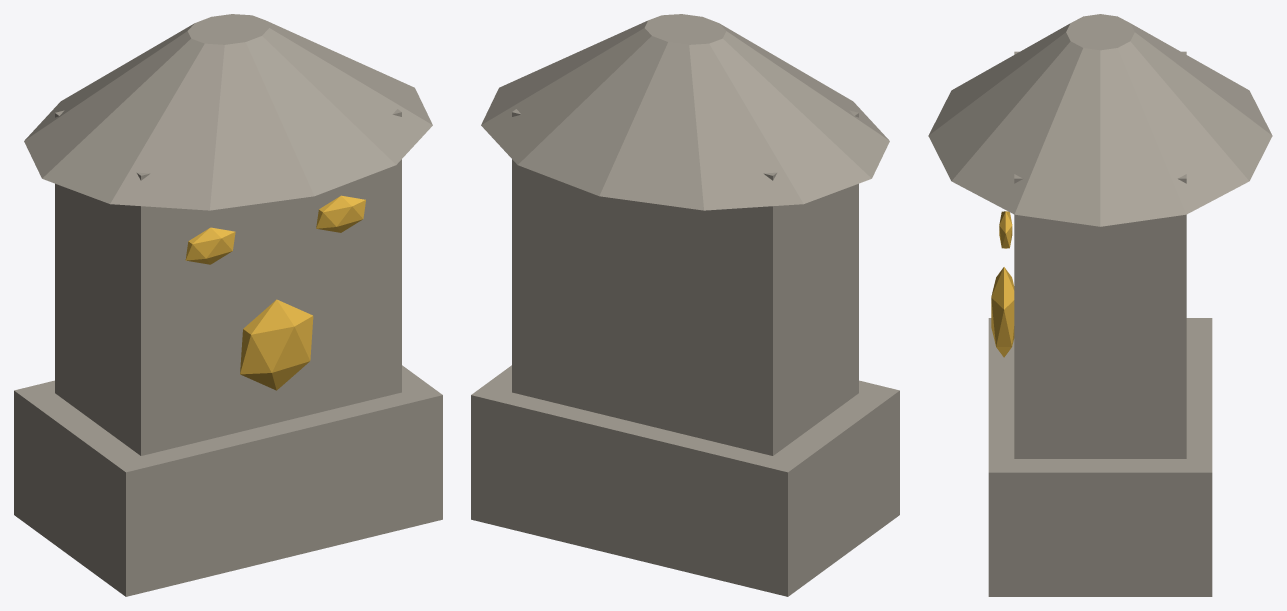
File: reliquia_idolo.glb
The picture shows the model from 3 angles, left to right: view 1: azimuth 30°, elevation 25°; view 2: azimuth 150°, elevation 25°; view 3: azimuth 270°, elevation 25°; orthographic projection.
Visible parts, largest first — view 1: reliquia_idolo; view 2: reliquia_idolo; view 3: reliquia_idolo.
Boxes of the visible parts, x1,y1,x2,y2 form: reliquia_idolo: (14, 14, 442, 596); reliquia_idolo: (471, 14, 899, 596); reliquia_idolo: (928, 14, 1272, 596).
Size of the model in its own units: 2 by 2.5 by 1.6.
